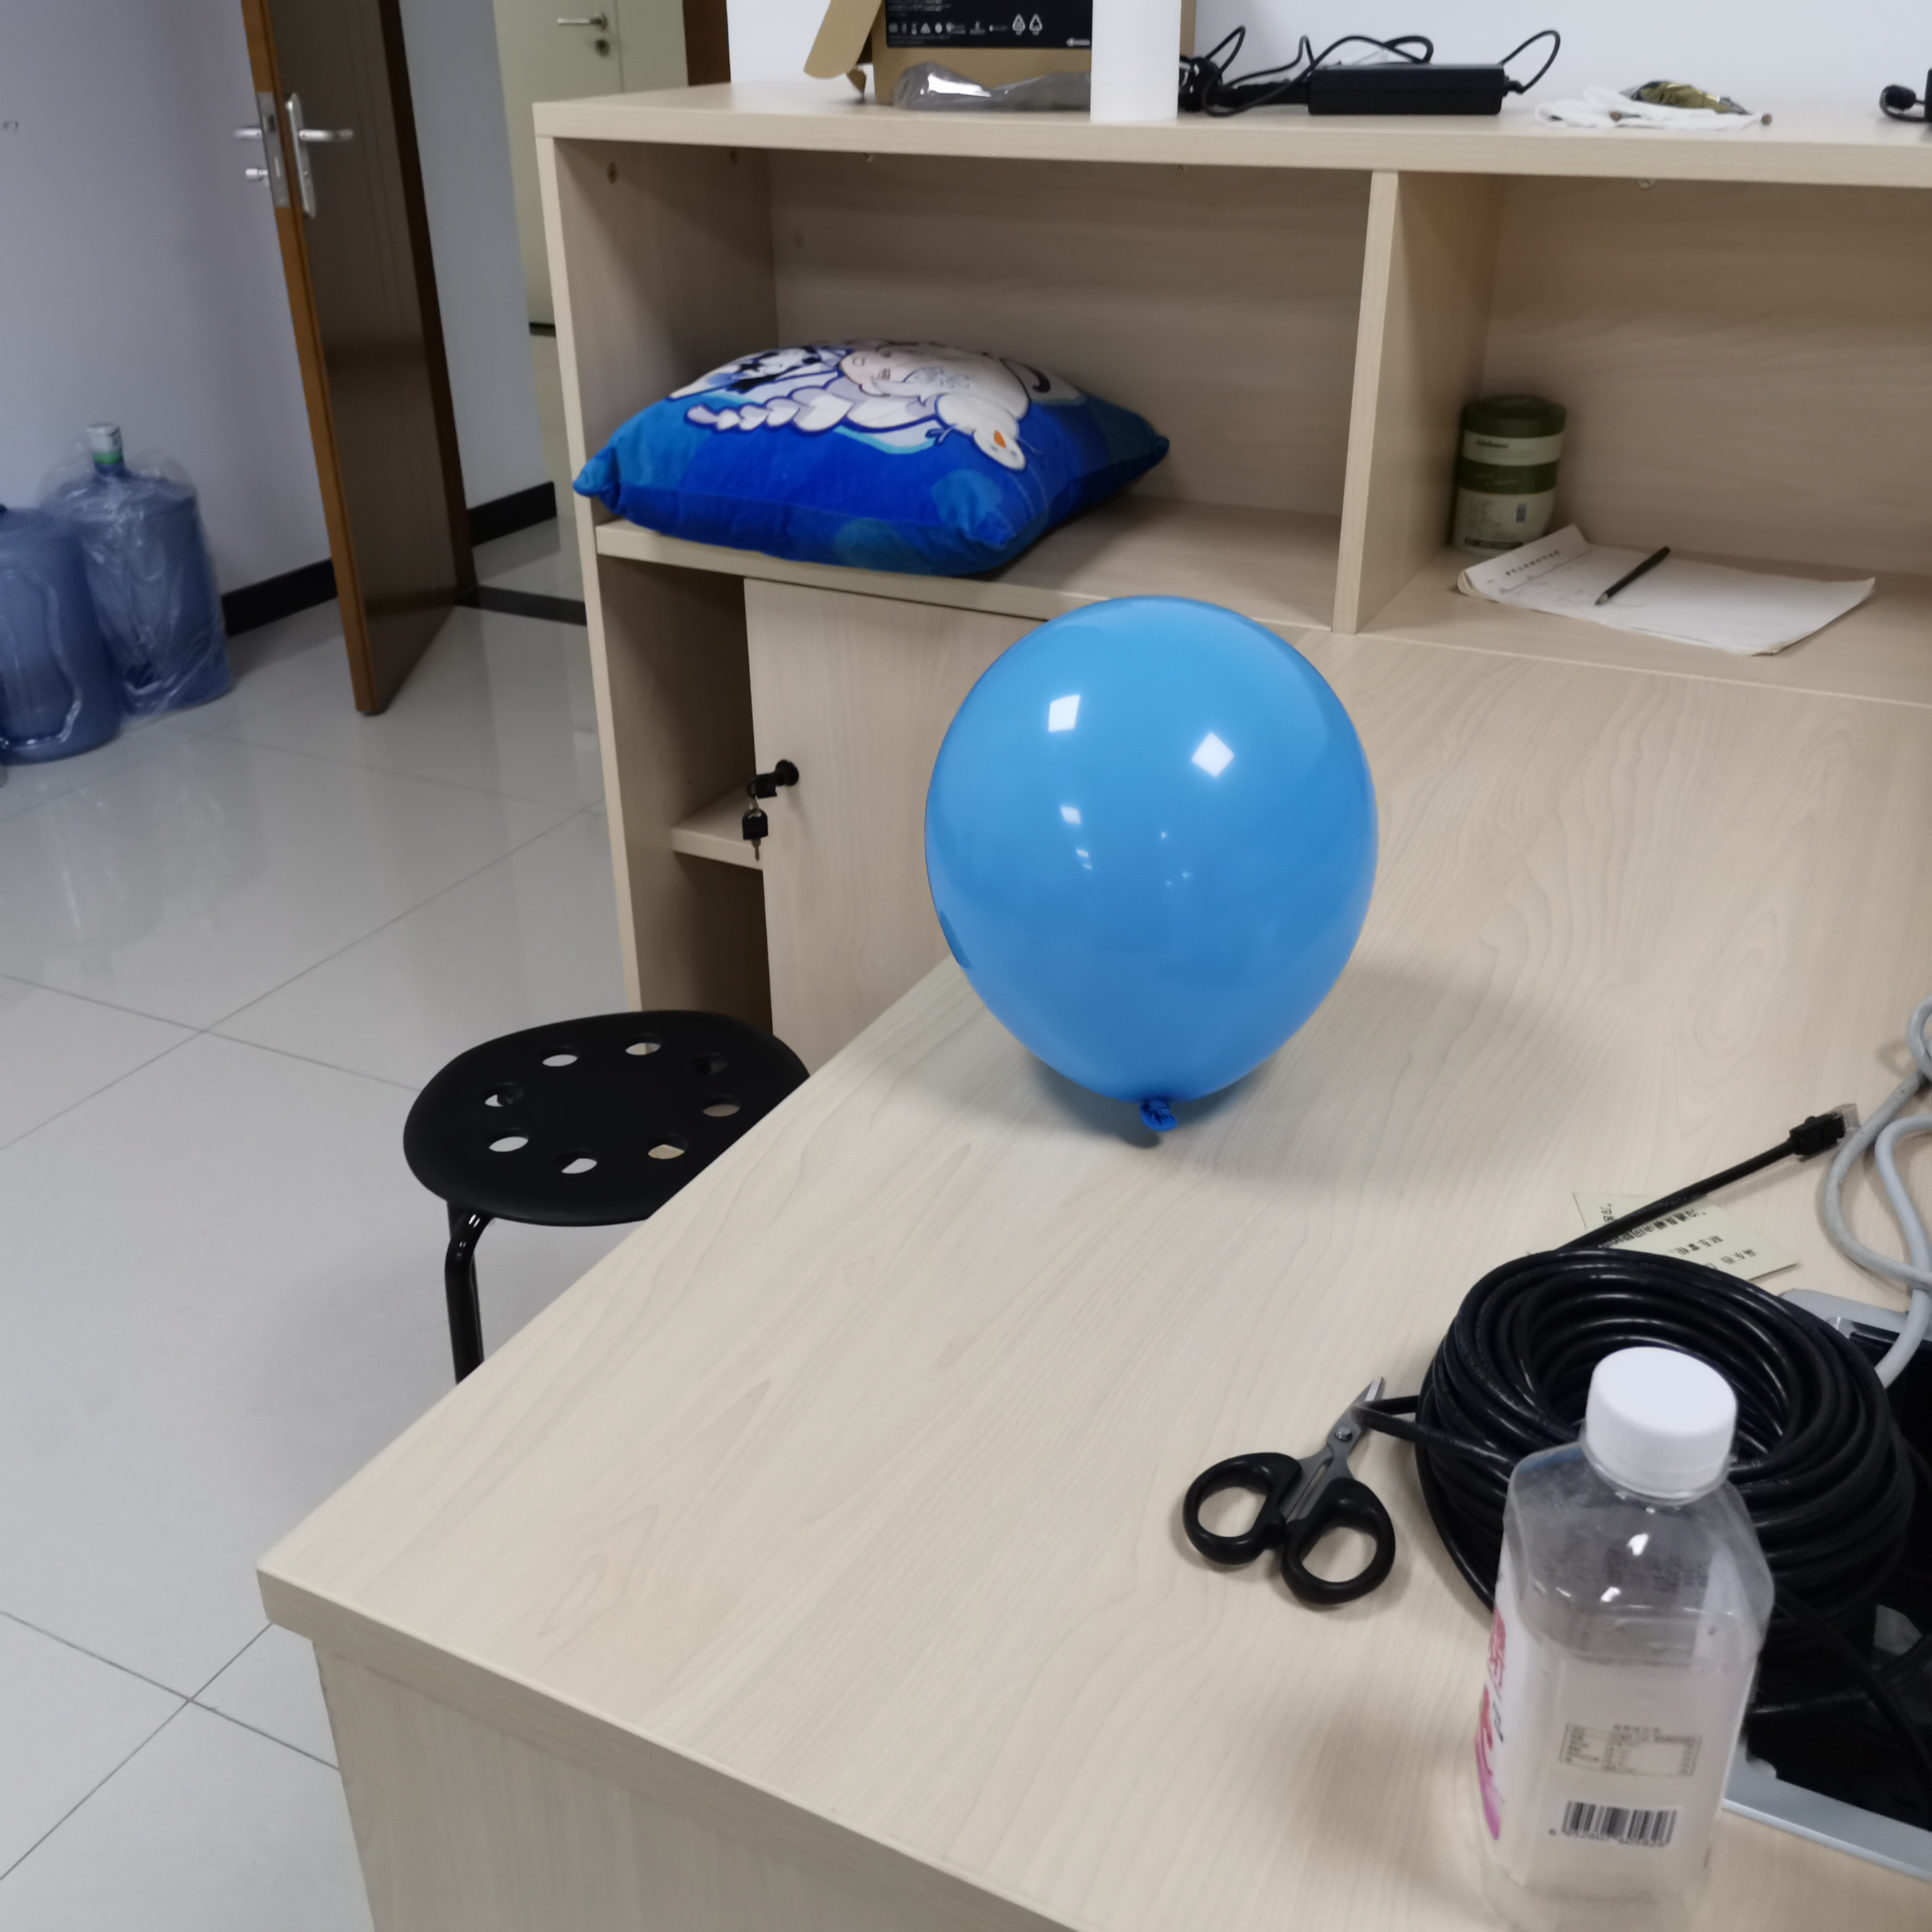balloon: (925, 593, 1378, 1129)
